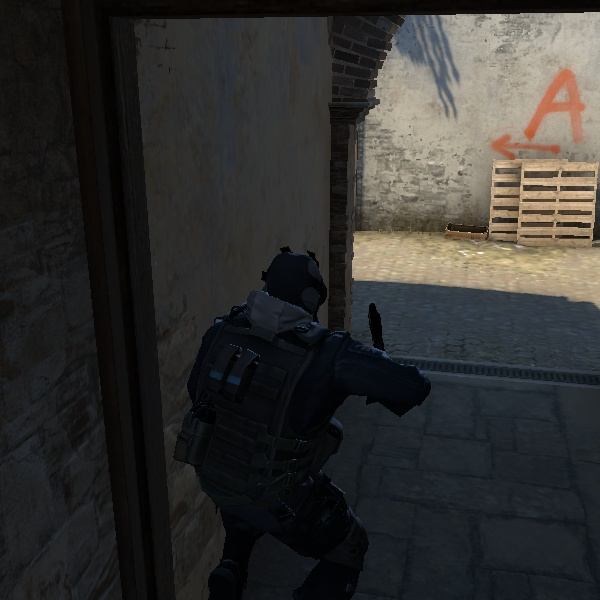ct_body: (149, 223, 454, 600)
ct_head: (245, 239, 353, 339)
